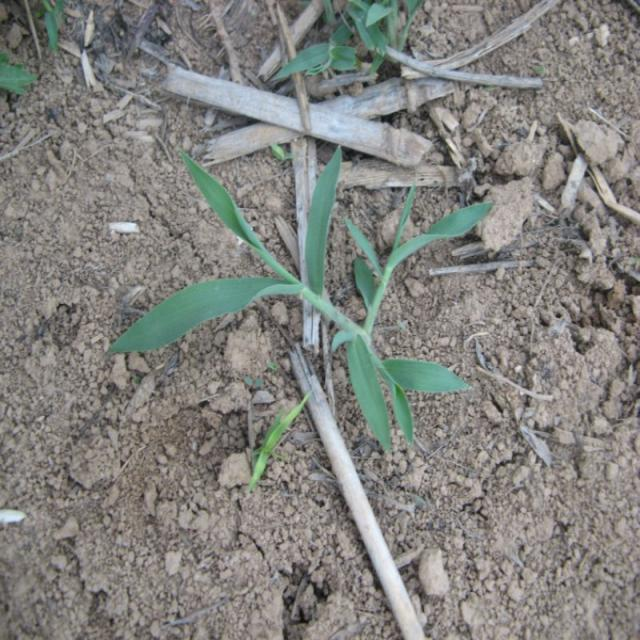bg: (101, 143, 494, 461)
